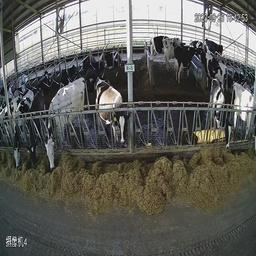cow: (43, 78, 89, 172), (45, 74, 84, 171), (92, 78, 131, 143), (91, 78, 128, 145), (207, 79, 232, 154), (208, 81, 231, 148), (14, 89, 31, 170), (199, 50, 228, 96), (27, 87, 42, 162), (173, 44, 195, 83), (149, 35, 173, 66), (164, 37, 185, 70), (84, 59, 101, 91), (204, 37, 223, 63), (103, 49, 120, 70)
